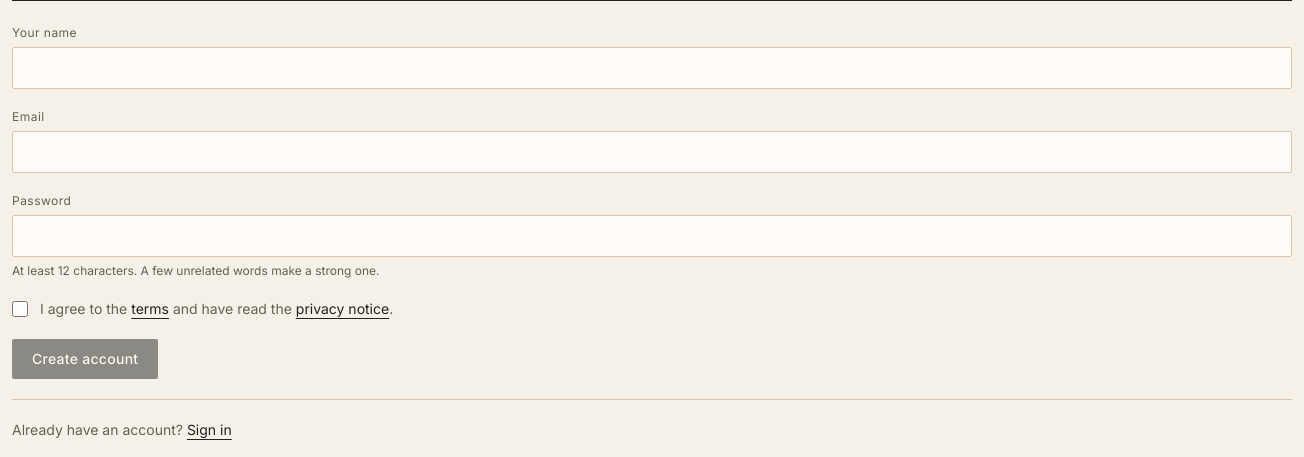
Test: SignUpForm › asks the visitor to check their email
Type "Ada" into the field labelled "Your name" at coordinates (652, 68), box [12,47,1292,89]
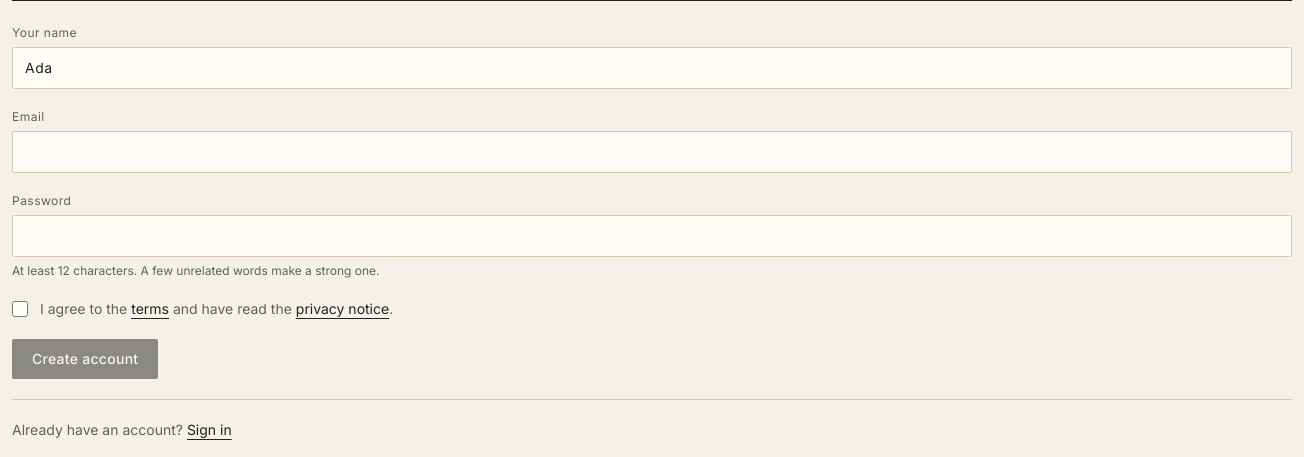
Type "ada@example.com" into the field labelled "Email" at coordinates (652, 152), box [12,131,1292,173]
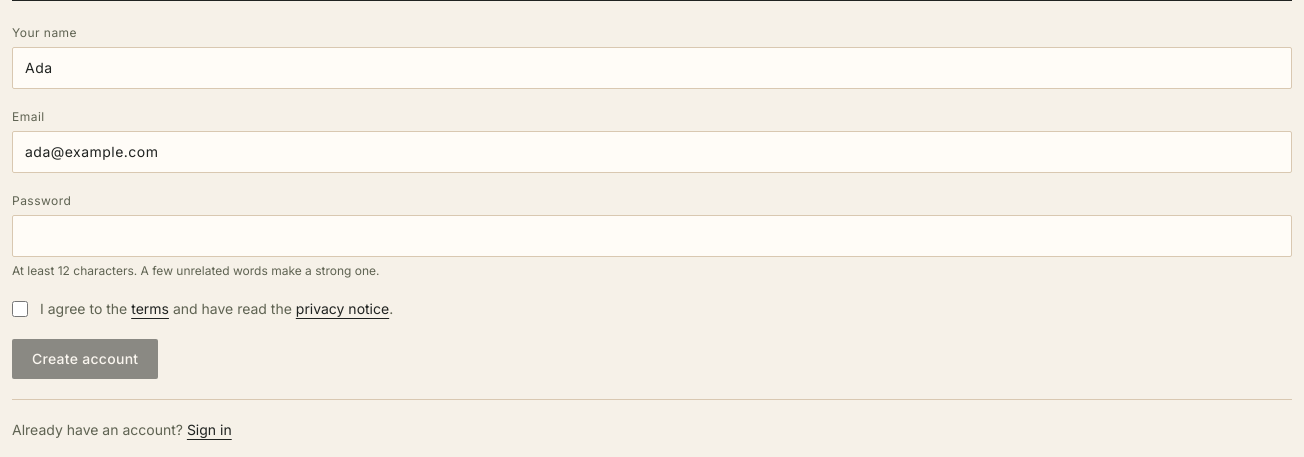
Type "long enough password" into the password field labelled "Password" at coordinates (652, 236), box [12,215,1292,257]
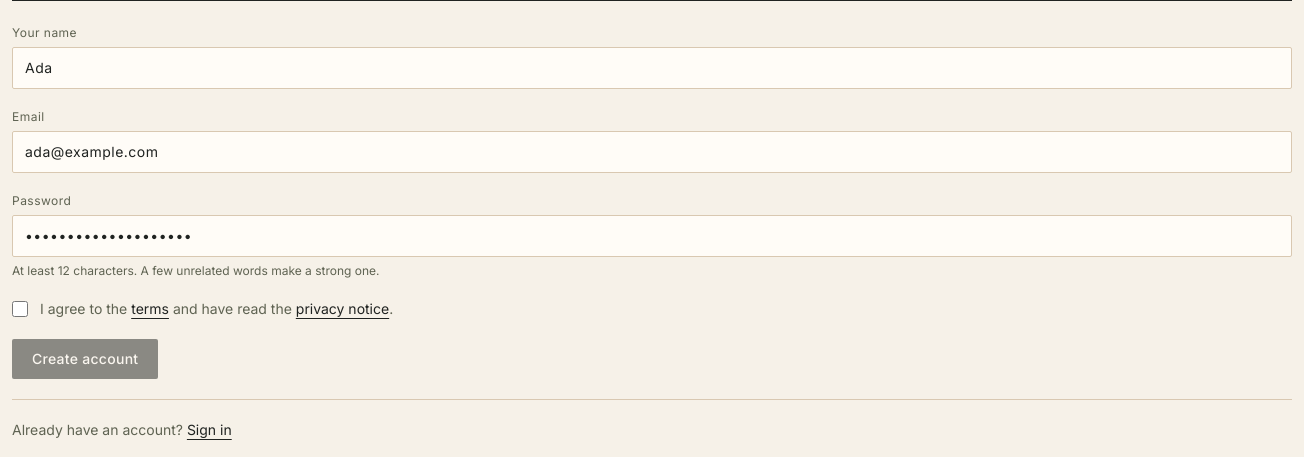
Click the checkbox at coordinates (20, 309), box [12,301,28,317]
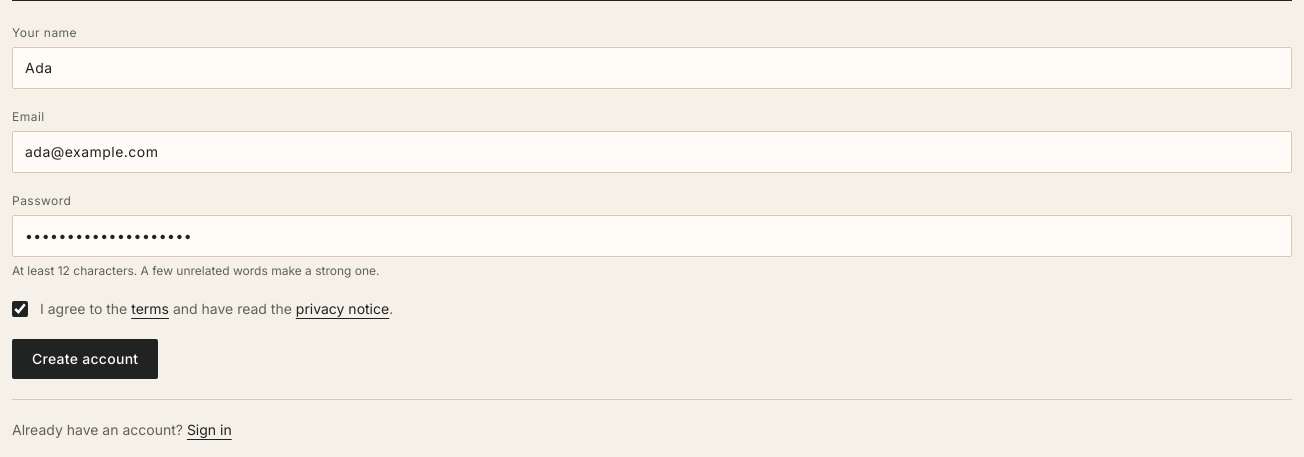
Click the button "Create account" at coordinates (85, 359), box [12,339,158,379]
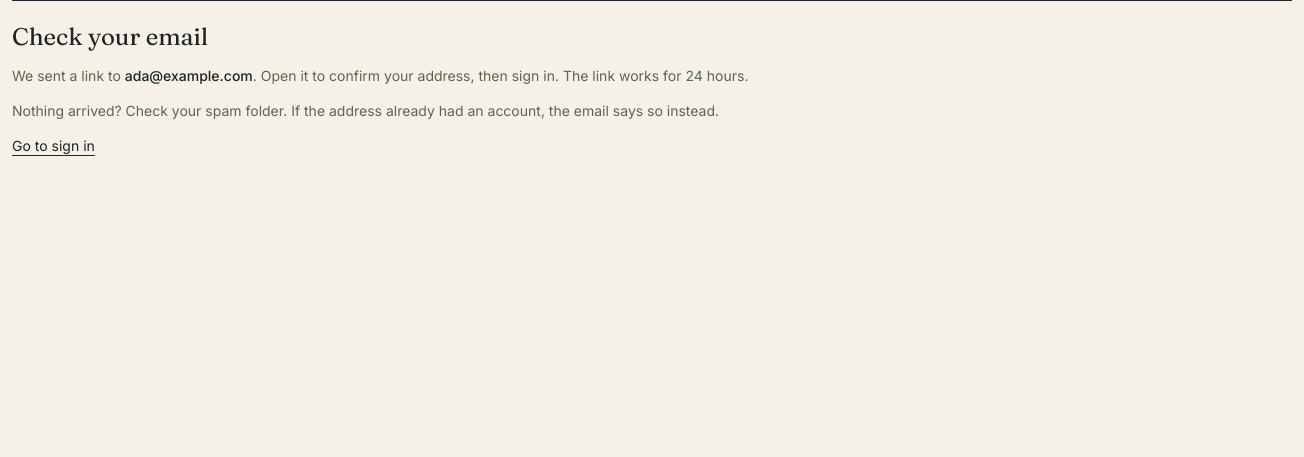
Expected: the text "Check your email" is shown, [12,22,208,51]
Expected: the text "ada@example.com" is shown, [125,67,253,84]
